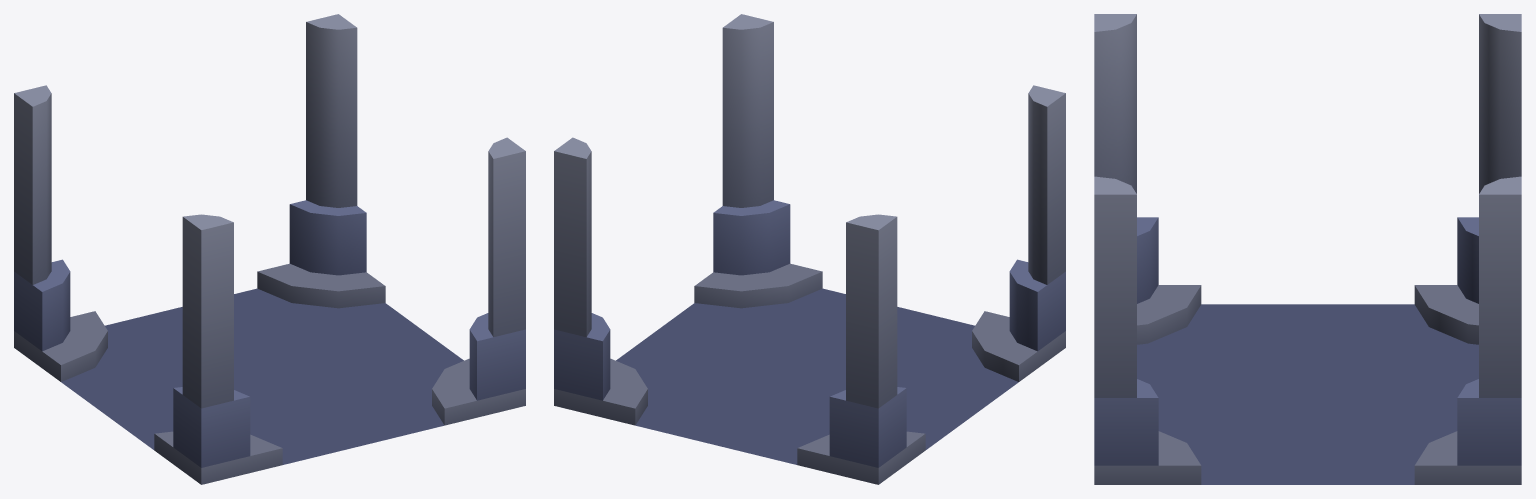
The model's file is corridor-intersection.fbx.
3 views of the same model, side by side, from view 1: azimuth 30°, elevation 25°; view 2: azimuth 150°, elevation 25°; view 3: azimuth 270°, elevation 25° (orthographic). The views are drawn at different scales.
Visible parts, largest first — view 1: corridor-intersection; view 2: corridor-intersection; view 3: corridor-intersection.
Boxes of the visible parts, x1,y1,x2,y2 form: corridor-intersection: (14,14,525,484); corridor-intersection: (554,14,1065,484); corridor-intersection: (1094,14,1521,484).
Size of the model in its own units: 400 by 300 by 400.
1 material, 1 textured.
